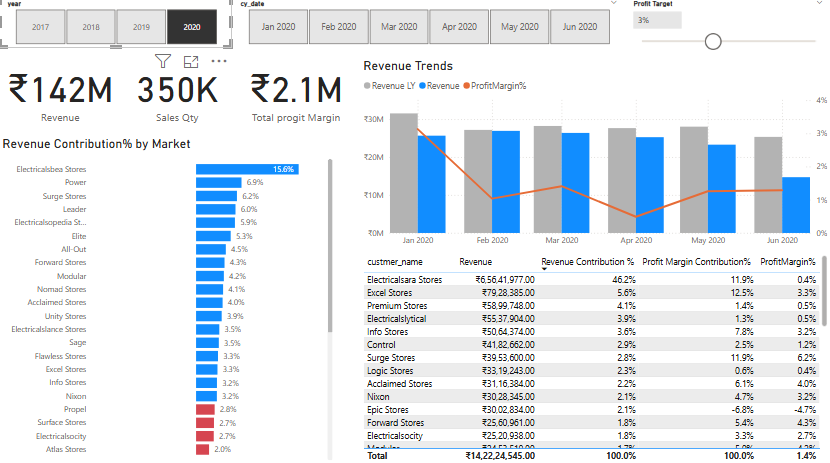

The page's visual inventory and layout, read from the dashboard file:
{"tool":"powerbi","page":{"name":"Final Dashboard","canvas":[1280,720],"ordinal":1},"visuals":[{"type":"card","fields":{"Values":["Base measures.Revenue"]},"box":[0,80.6,188.6,135.4],"z":0},{"type":"card","fields":{"Values":["Base measures.Sales Qty"]},"box":[188.6,80.6,169.9,135.4],"z":1000},{"type":"slicer","fields":{"Values":["date.year"]},"box":[0,0,358.6,80.6],"z":2000},{"type":"slicer","fields":{"Values":["date.cy_date"]},"box":[358.6,0,604.8,80.6],"z":3000},{"type":"lineClusteredColumnComboChart","title":"Revenue Trends","fields":{"Y":["Base measures.Revenue LY","Base measures.Revenue"],"Category":["date.cy_date"],"Y2":["Base measures.ProfitMargin%"]},"box":[555.8,95,724.3,299.5],"z":4000},{"type":"card","fields":{"Values":["Base measures.Total progit Margin"]},"box":[358.6,80.6,197.3,135.4],"z":5000},{"type":"tableEx","title":"Top  5 Customers","fields":{"Values":["customers.custmer_name","Base measures.Revenue","Base measures.Revenue Contribution %","Base measures.Profit Margi Contributor%","Base measures.ProfitMargin%"]},"box":[555.8,393.1,724.3,326.9],"z":6000},{"type":"barChart","title":"Revenue Contribution% by Market","fields":{"Y":["Base measures.ProfitMargin%"],"Category":["markets.zone","markets.markets_name","customers.custmer_name"]},"box":[0,216,518.4,504],"z":7000},{"type":"slicer","fields":{"Values":["Profit Target.Profit Target"]},"box":[963.4,0,316.8,95],"z":8001}]}

Visuals, with their boxes in screenshot pixels (x1, y1, x2, y2), scaled from the page's 1280x720 canvas onto the 830x463 screenshot:
card - Base measures.Revenue: select_region(0, 52, 122, 139)
card - Base measures.Sales Qty: select_region(122, 52, 232, 139)
slicer - date.year: select_region(0, 0, 233, 52)
slicer - date.cy_date: select_region(233, 0, 625, 52)
"Revenue Trends" lineClusteredColumnComboChart: select_region(360, 61, 829, 254)
card - Base measures.Total progit Margin: select_region(233, 52, 360, 139)
"Top  5 Customers" tableEx: select_region(360, 253, 829, 462)
"Revenue Contribution% by Market" barChart: select_region(0, 139, 336, 462)
slicer - Profit Target.Profit Target: select_region(625, 0, 829, 61)
